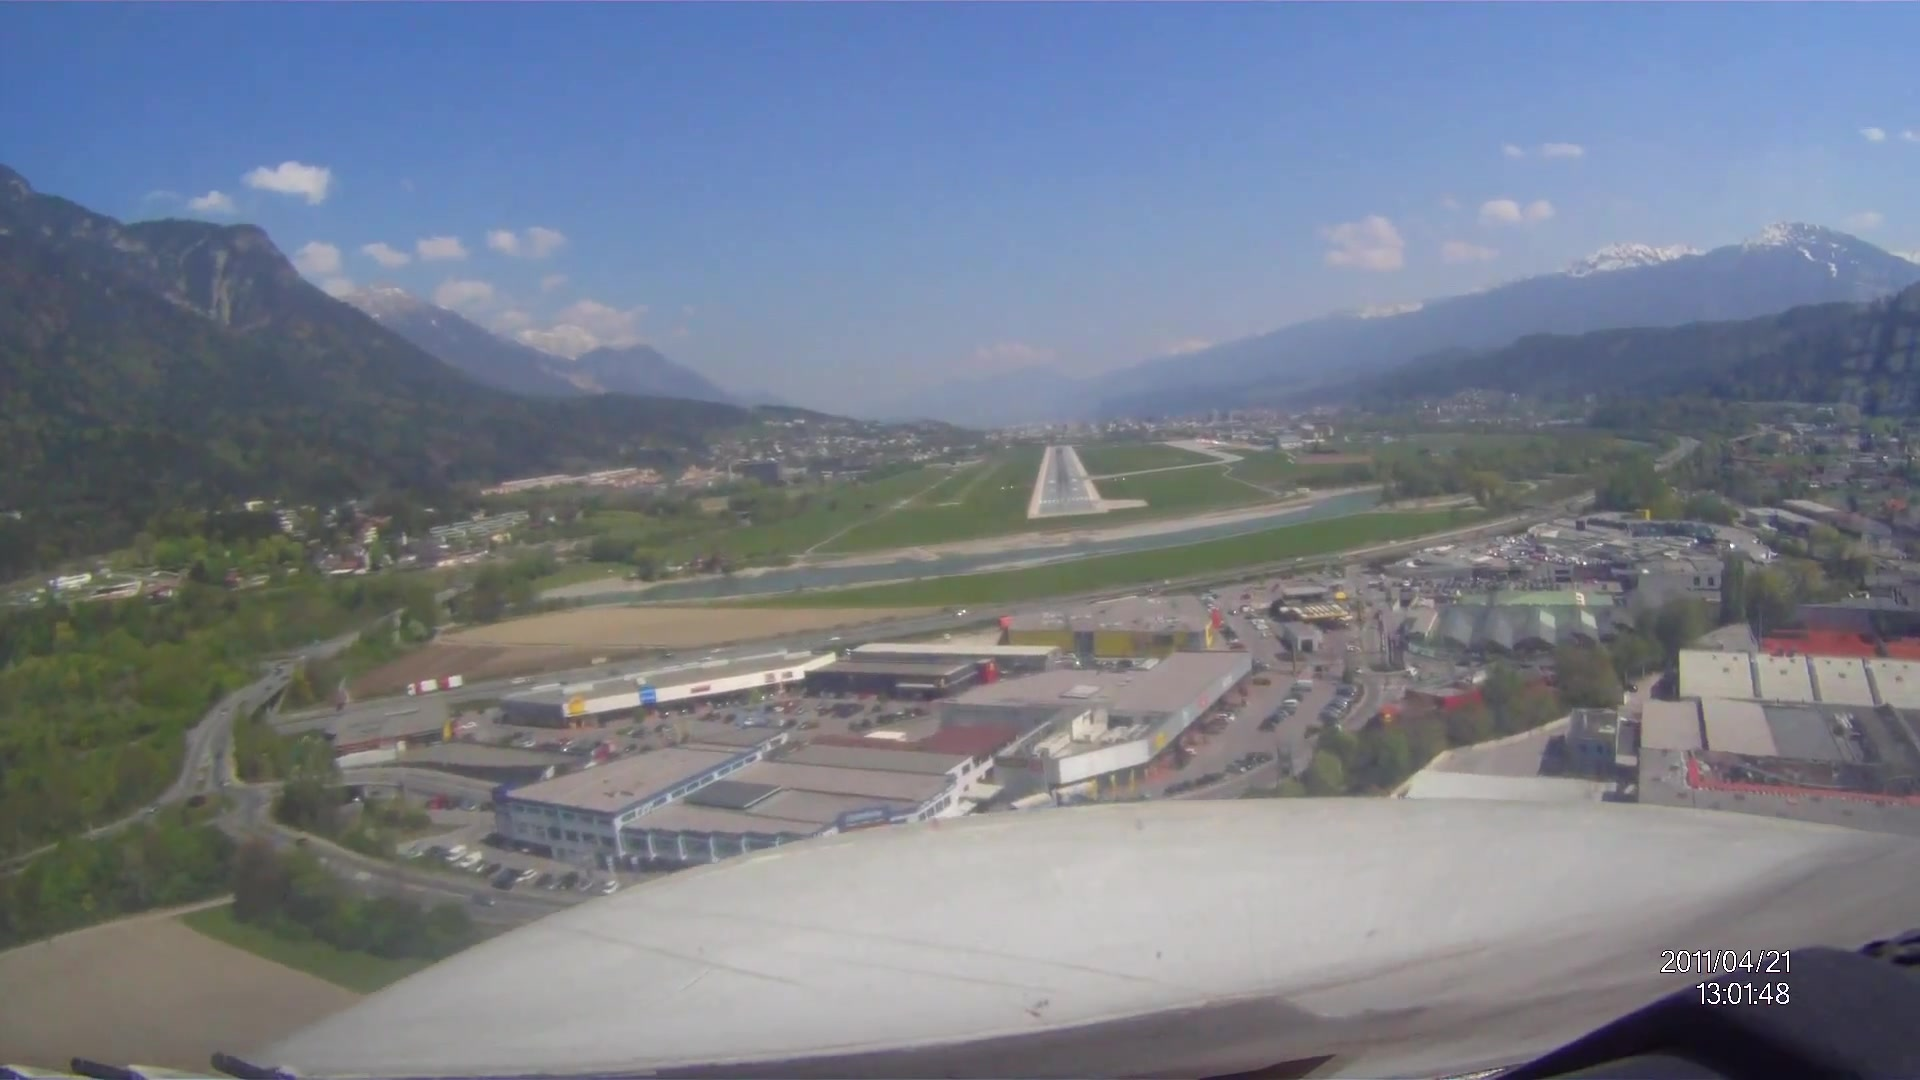entrance: (1036, 495, 1093, 504)
runway: (1035, 444, 1093, 510)
